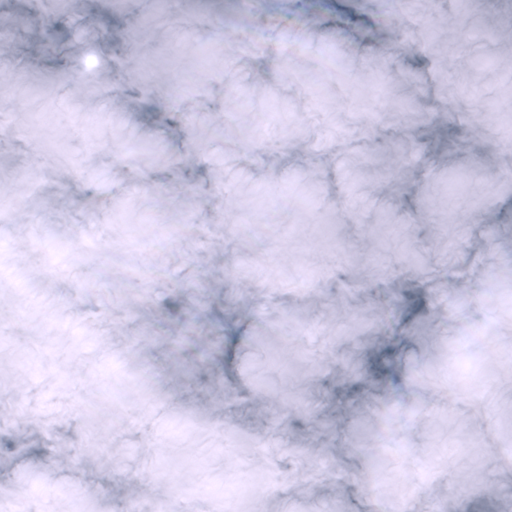Iceberg: (85, 55, 98, 69)
